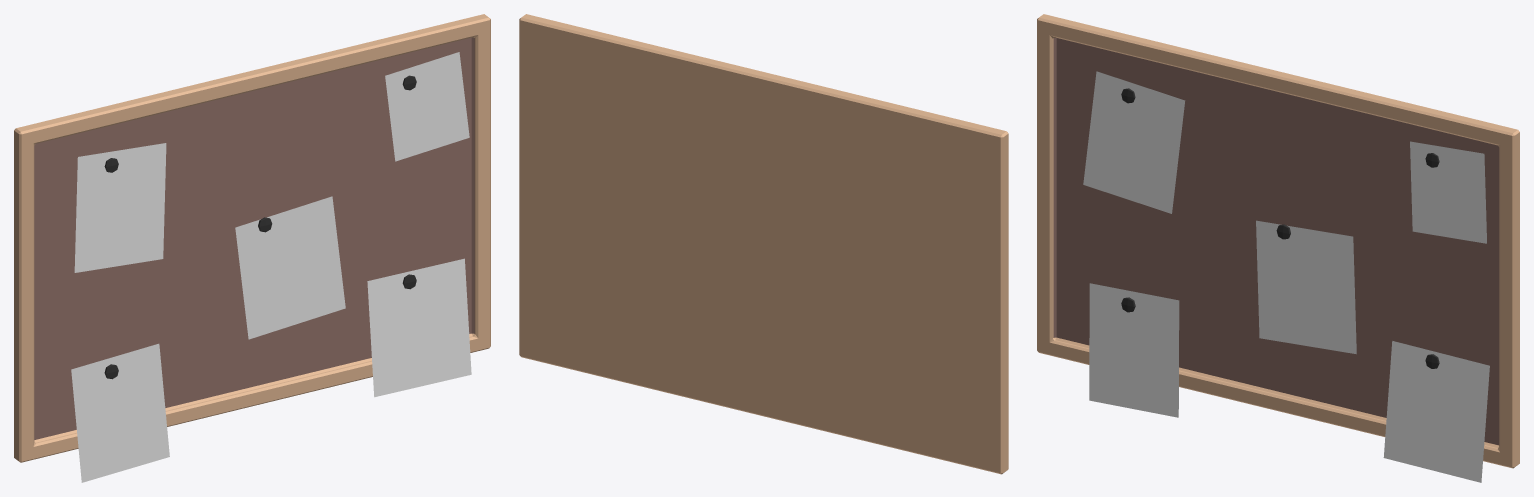
Rendered from tablon_dibujos.glb.
3 views of the same model, side by side, from view 1: azimuth 30°, elevation 25°; view 2: azimuth 150°, elevation 25°; view 3: azimuth 330°, elevation 25° (orthographic). The views are drawn at different scales.
Visible parts, largest first — view 1: tablon_de_dibujos; view 2: tablon_de_dibujos; view 3: tablon_de_dibujos.
Part boxes in pixels (bbox=[...]): tablon_de_dibujos: bbox=[14, 14, 490, 482]; tablon_de_dibujos: bbox=[519, 14, 1008, 474]; tablon_de_dibujos: bbox=[1037, 14, 1519, 482].
Size of the model in its own units: 2.88 by 2.1 by 0.1348.
